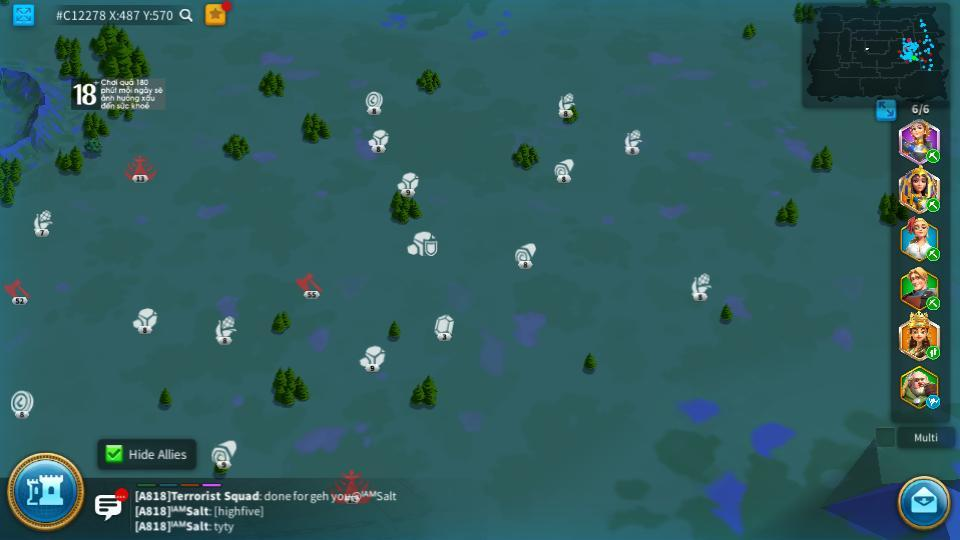gem-z-out: (432, 315, 455, 339)
march_farming: (925, 197, 941, 212), (925, 248, 941, 260)
march_idle: (925, 396, 942, 408)
march_marching: (925, 345, 941, 359), (925, 150, 942, 162), (925, 297, 942, 308)
